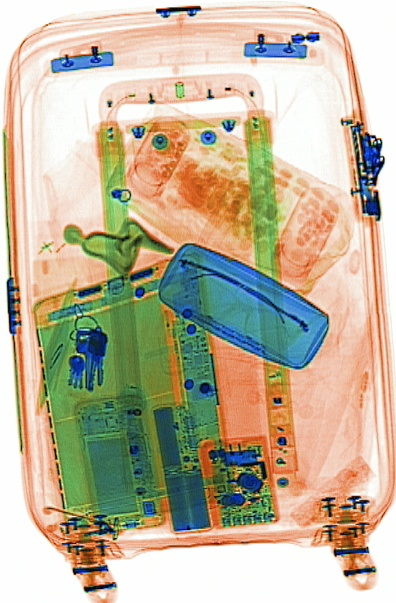powerbank: (147, 399, 212, 536)
